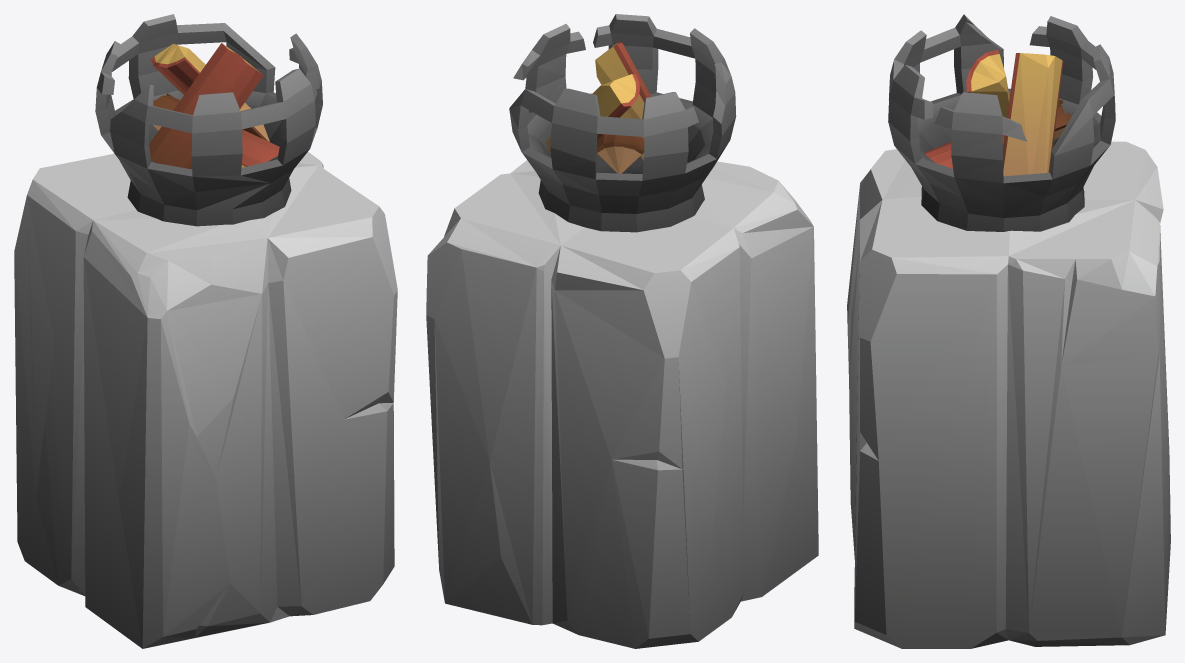
The model's file is rockblock_torch2.glb.
3 renders of one model, left to right at view 1: azimuth 30°, elevation 25°; view 2: azimuth 150°, elevation 25°; view 3: azimuth 270°, elevation 25°, orthographic. The views are drawn at different scales.
Visible parts, largest first — view 1: RockBlock_Torch2_mesh1; view 2: RockBlock_Torch2_mesh1; view 3: RockBlock_Torch2_mesh1.
Boxes of the visible parts, x1,y1,x2,y2 form: RockBlock_Torch2_mesh1: (14, 14, 397, 648); RockBlock_Torch2_mesh1: (426, 14, 818, 648); RockBlock_Torch2_mesh1: (847, 14, 1170, 648).
Bounding box in the file's own units: 0.8927 × 1.72 × 0.9368.
Materials: 1 (1 with a texture image).
